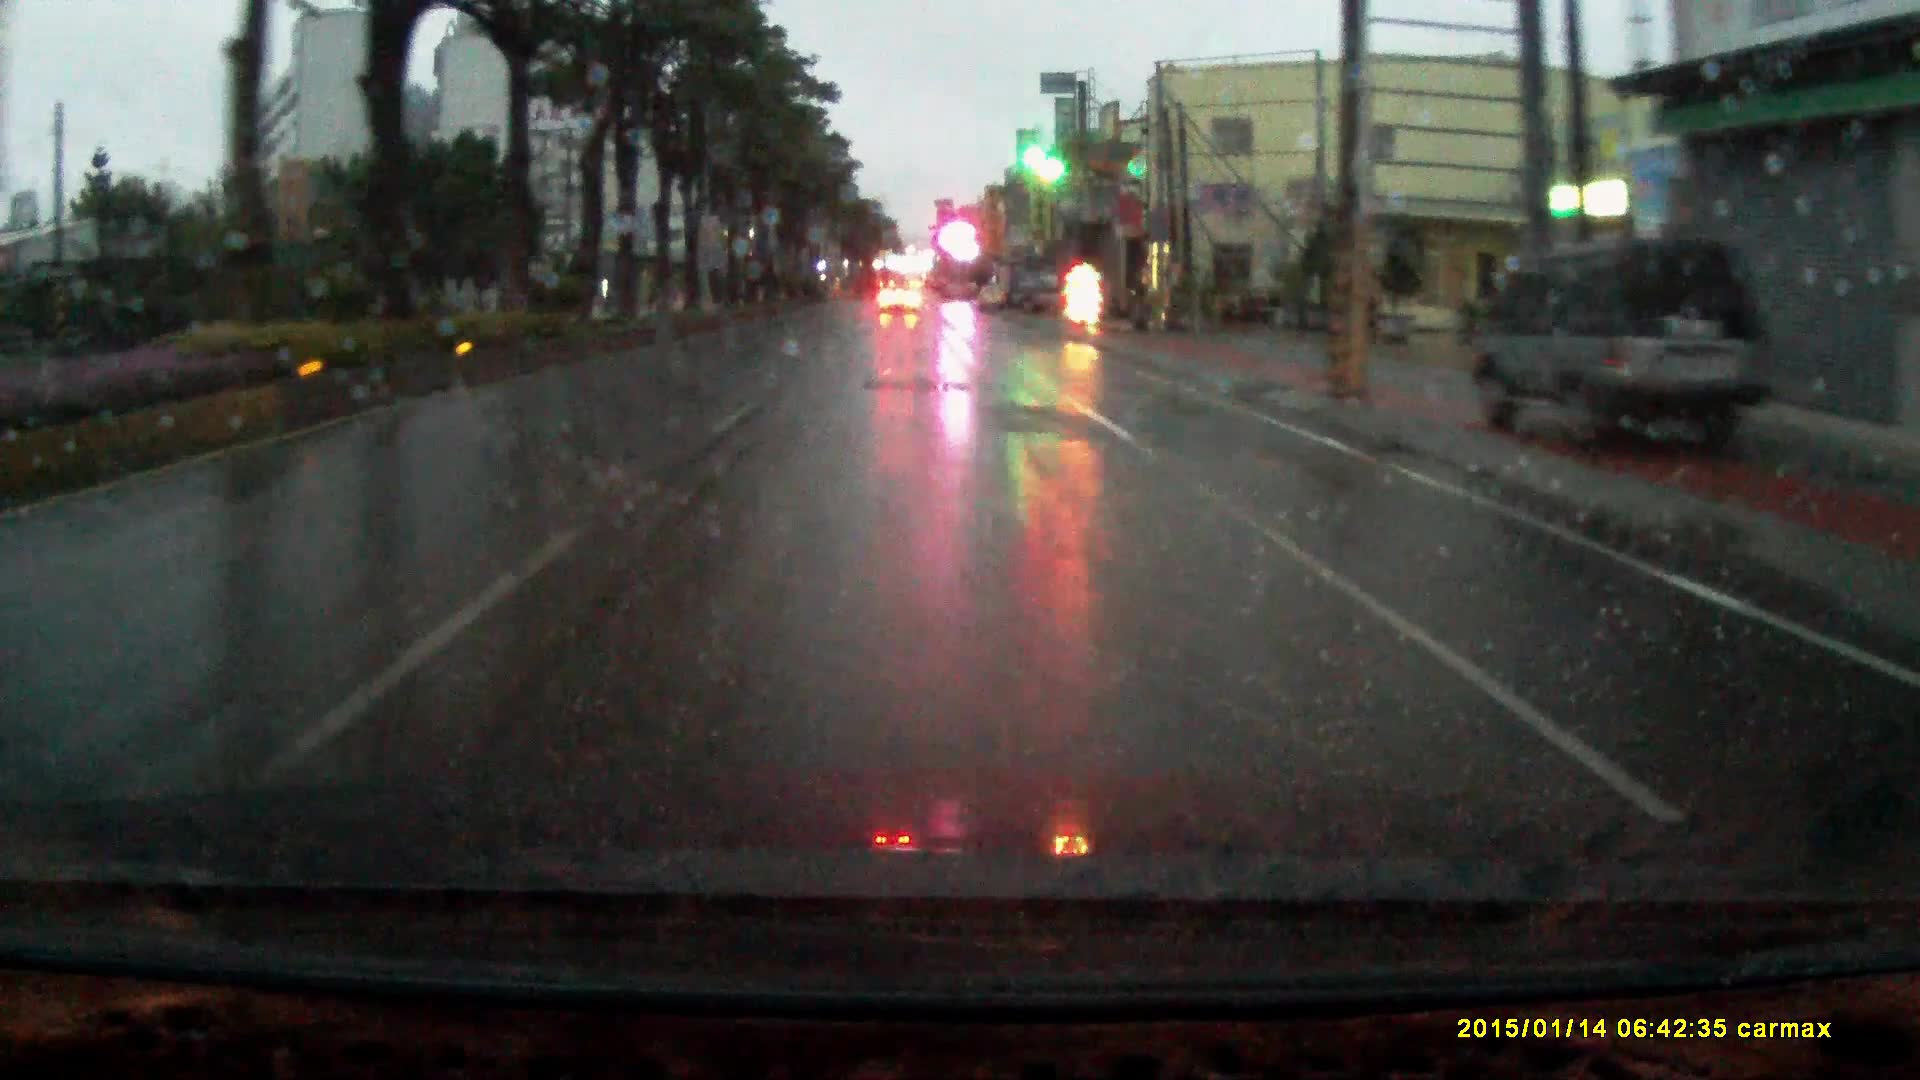vehicle: (1487, 231, 1785, 462), (1011, 287, 1073, 328), (877, 282, 923, 316)
